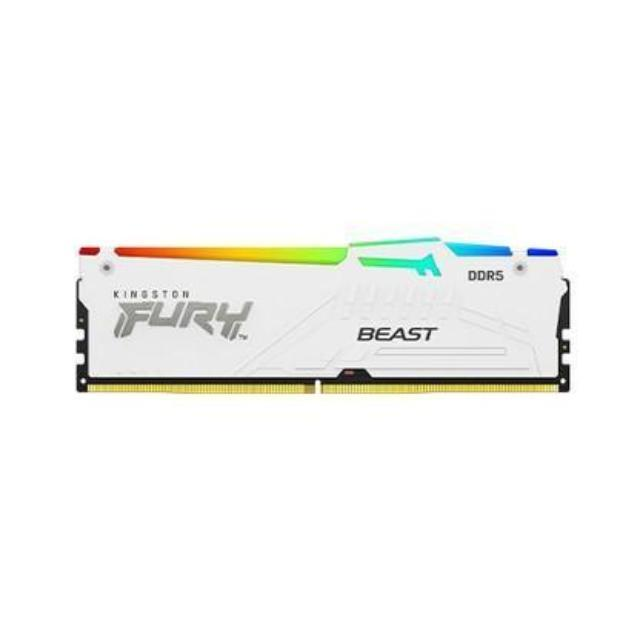RAM: (69, 231, 577, 406)
